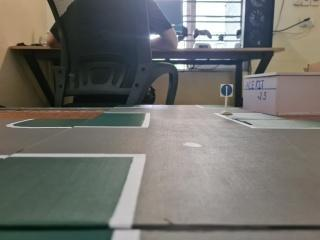straight: (219, 83, 235, 97)
